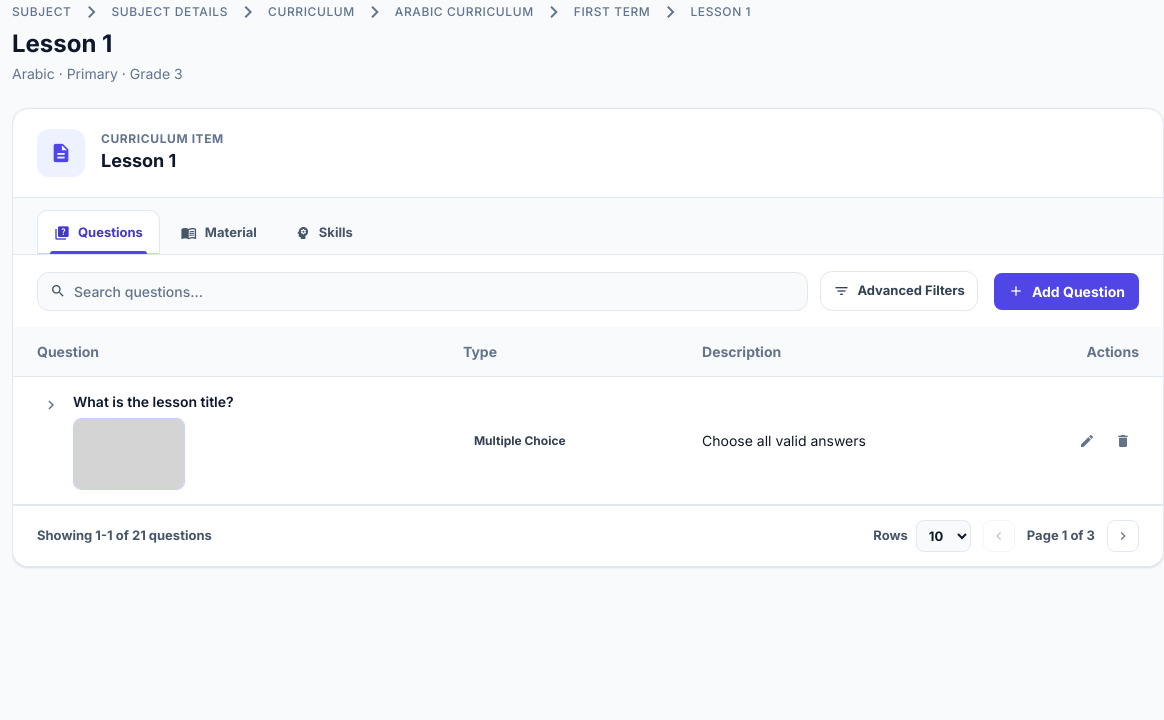
Test: TenantSubjectCurriculumDetailsComponent › switches between Questions and Material tab panels
Click the tab with class "curriculum-details-tab" showing "Material" at {"x": 219, "y": 232}, box [164, 210, 274, 254]
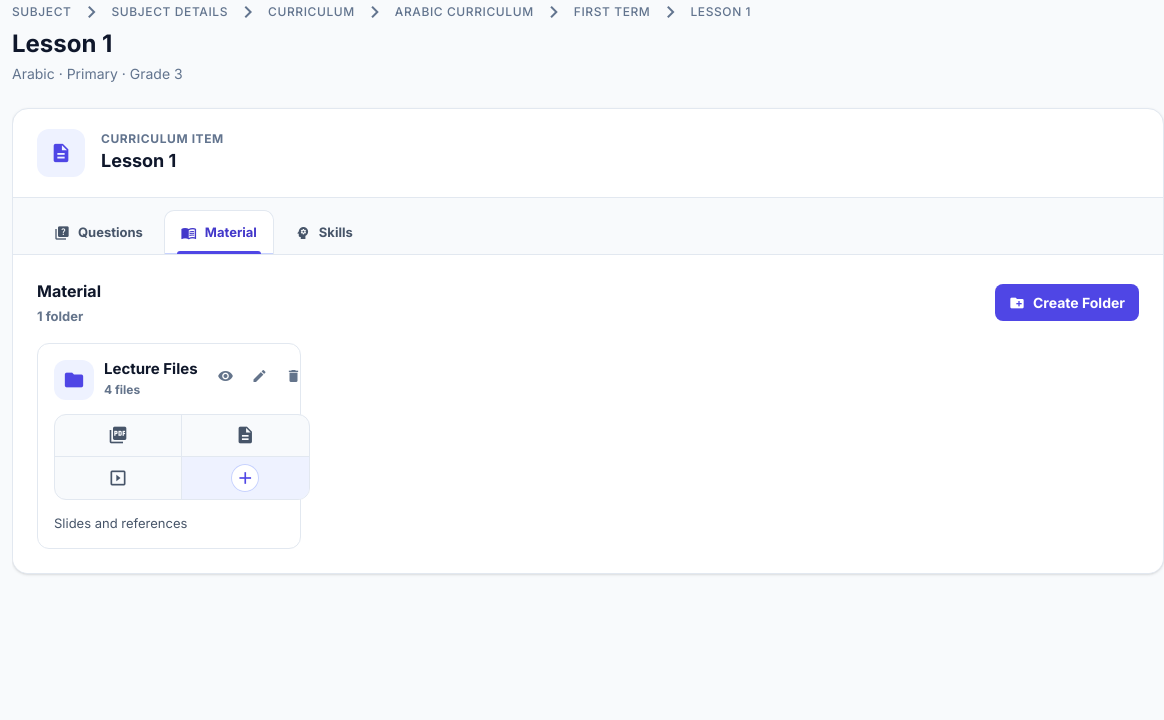
Expected: the panel with id "curriculum-details-material-panel" is shown, [13, 255, 1163, 573]
Expected: the text "Create Folder" is shown, [1033, 292, 1125, 313]
Expected: the text "Lecture Files" is shown, [104, 360, 198, 379]
